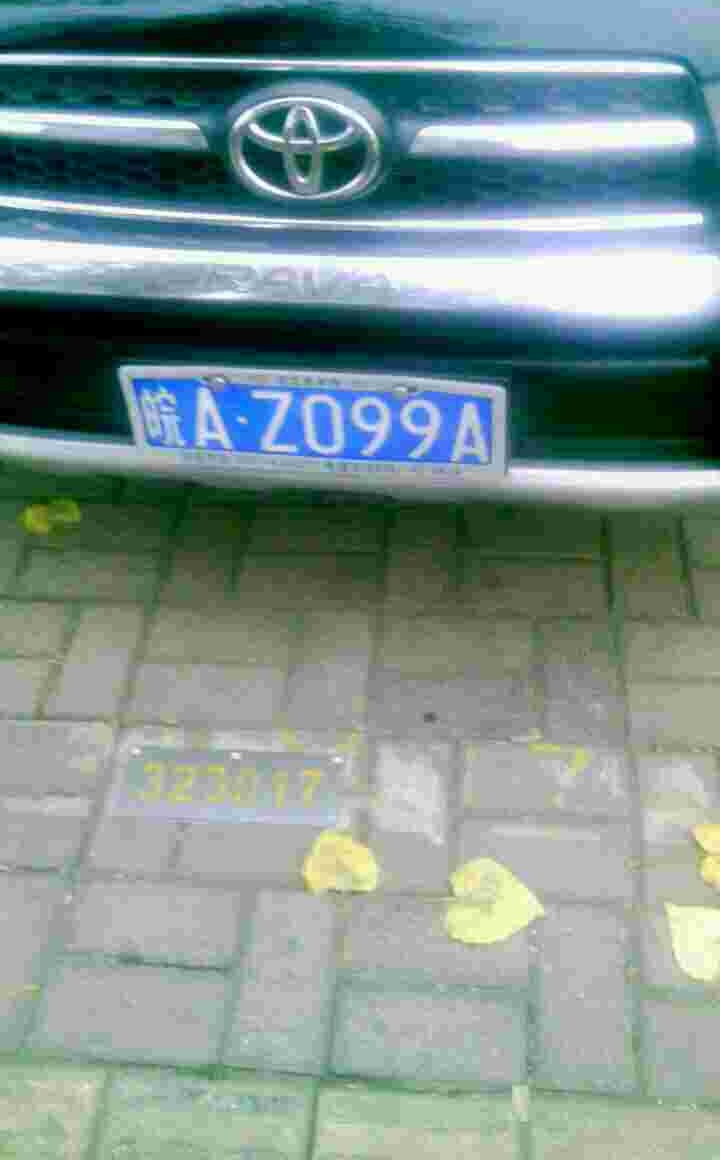license_plate: (116, 376, 509, 468)
